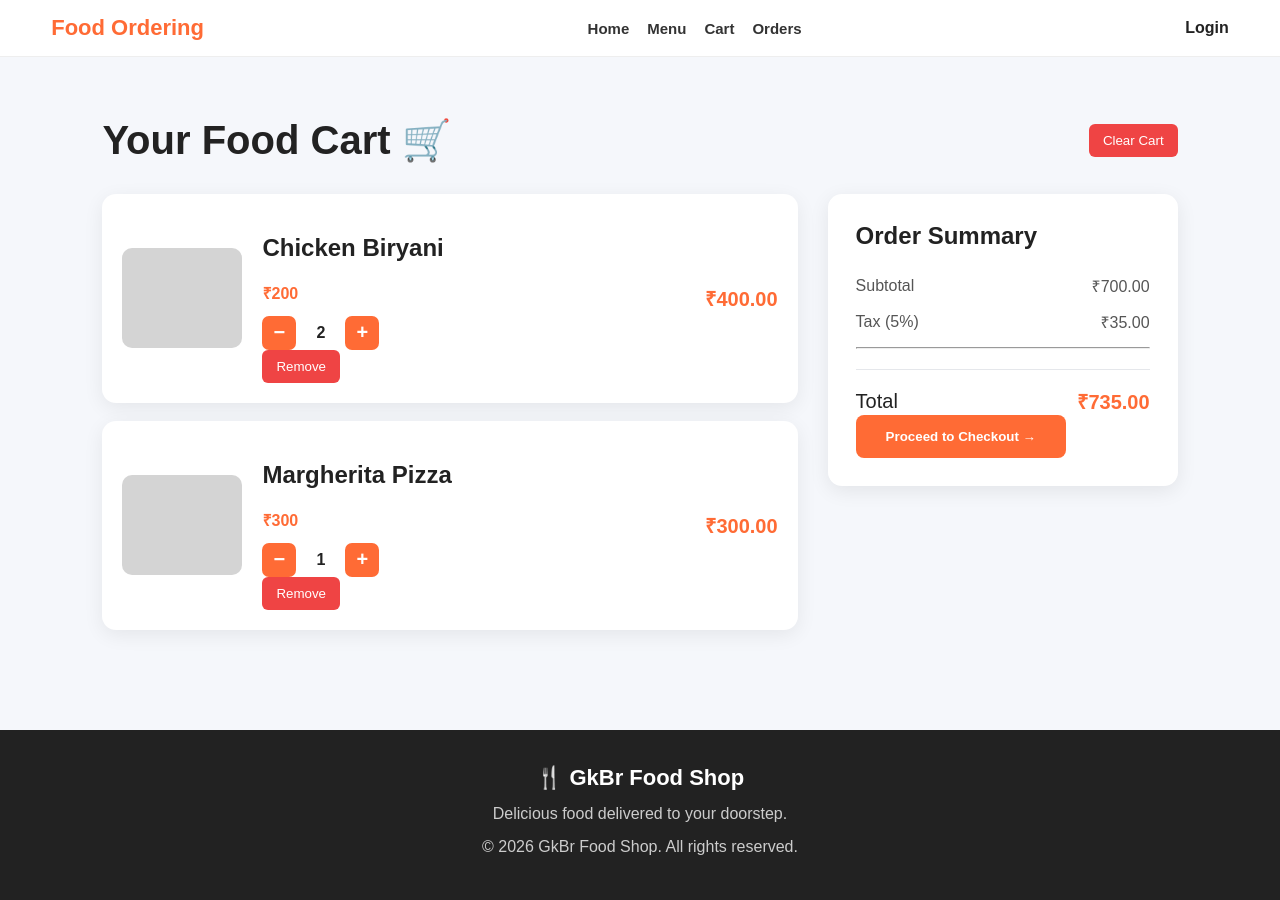
Test case: Cart Component › removes an item from cart
Click the button with aria-label "Remove Chicken Biryani from cart": point(301, 366) [262,350,340,383]
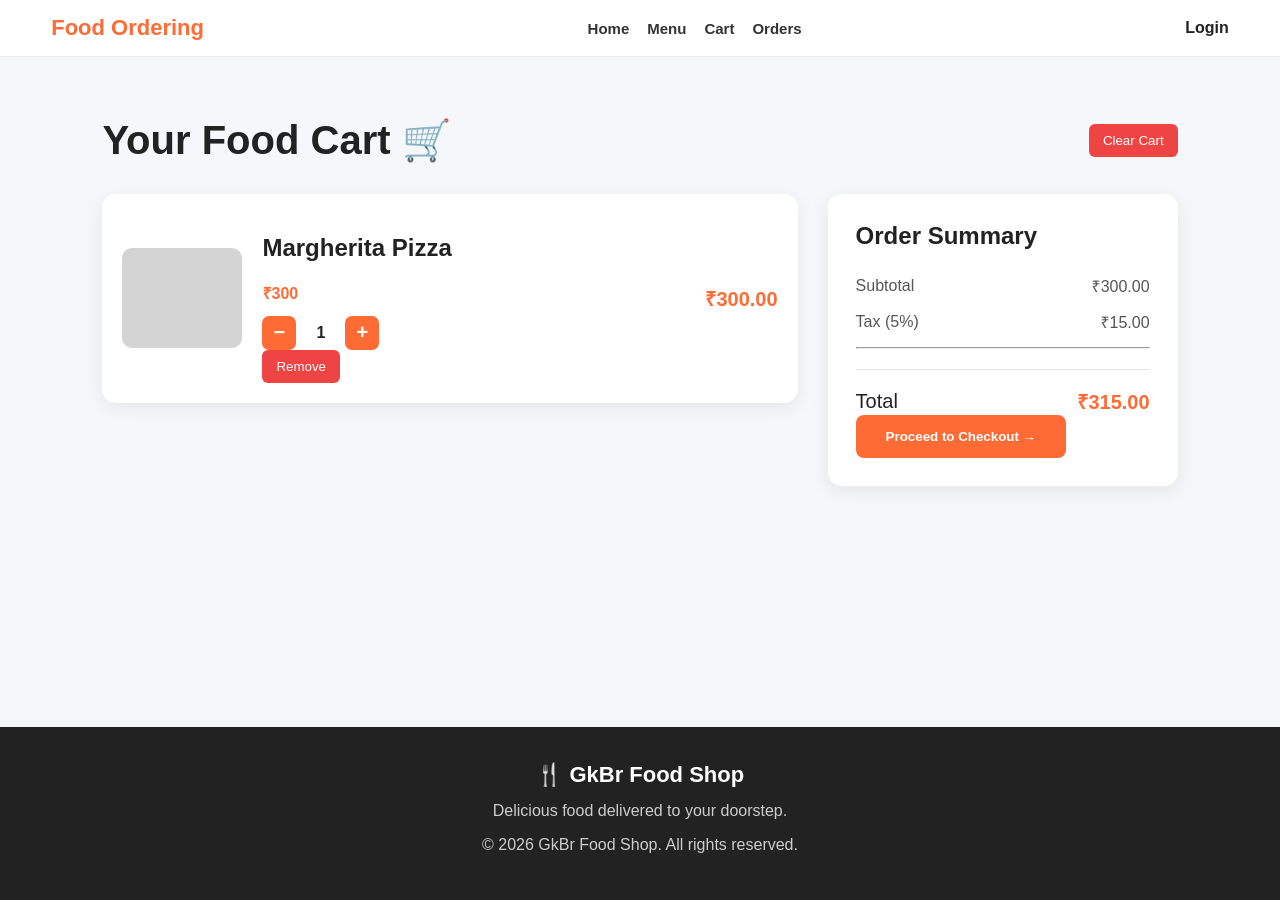
Check: the heading "Margherita Pizza" is shown, box [262,234,452,261]
Check: the heading "Chicken Biryani" is gone
